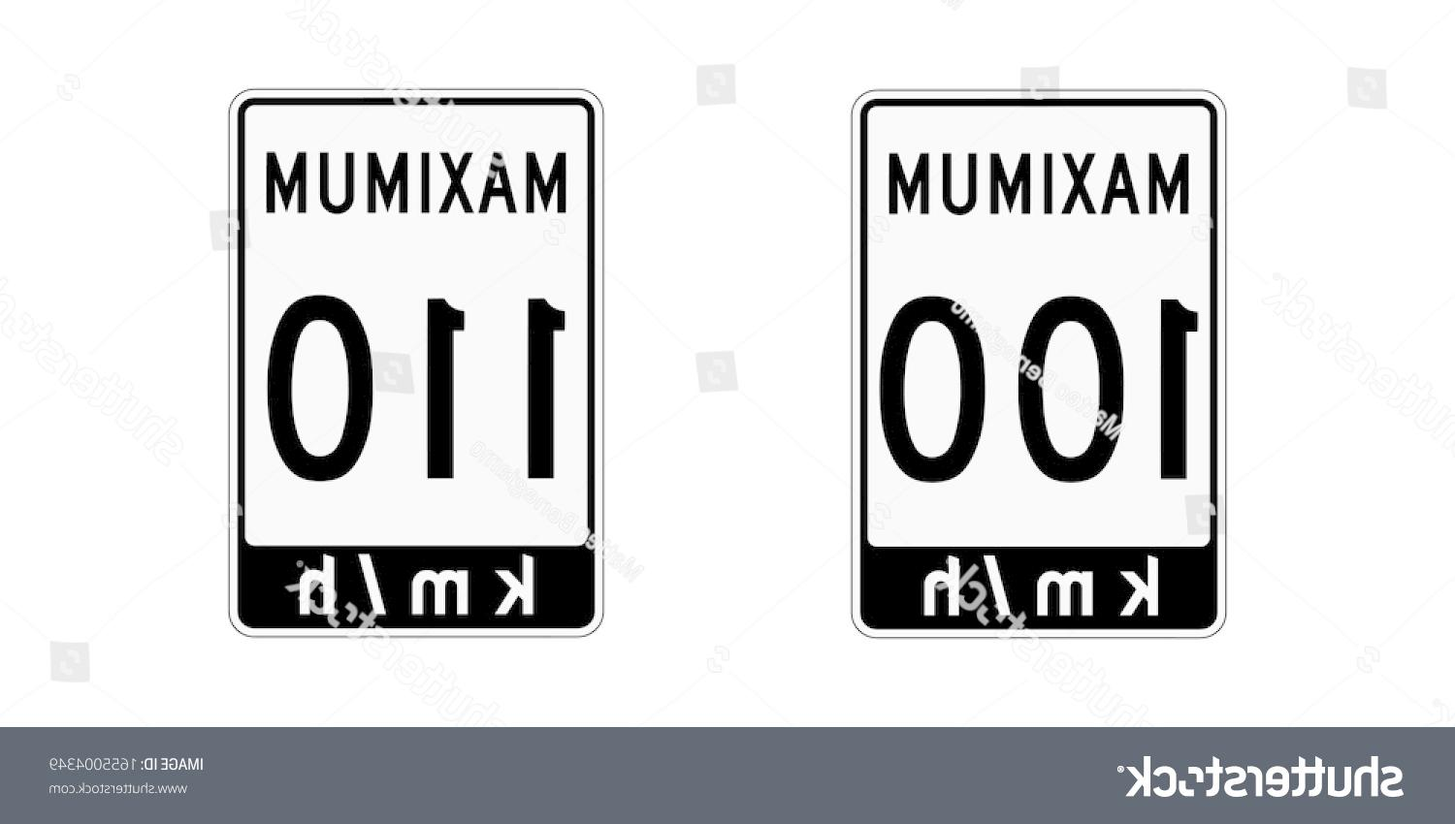speed limit sign: (852, 85, 1232, 637), (228, 90, 606, 637)
